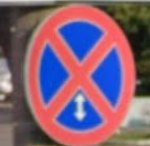oprirea_interzisa: (20, 3, 136, 144)
